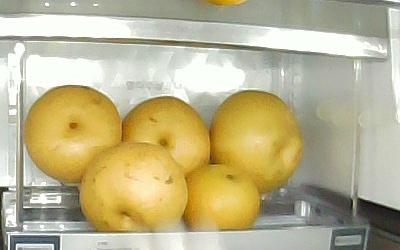pear: (79, 142, 188, 234), (212, 89, 306, 195), (24, 85, 124, 183), (123, 95, 211, 179), (182, 165, 262, 231)
